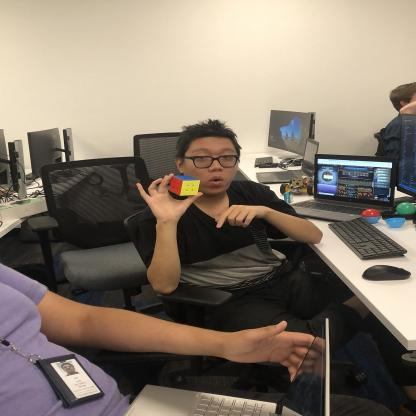SolvedCube: (168, 171, 199, 199)
